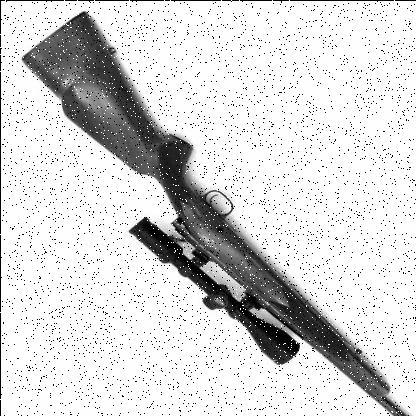rifle: (5, 3, 416, 416)
